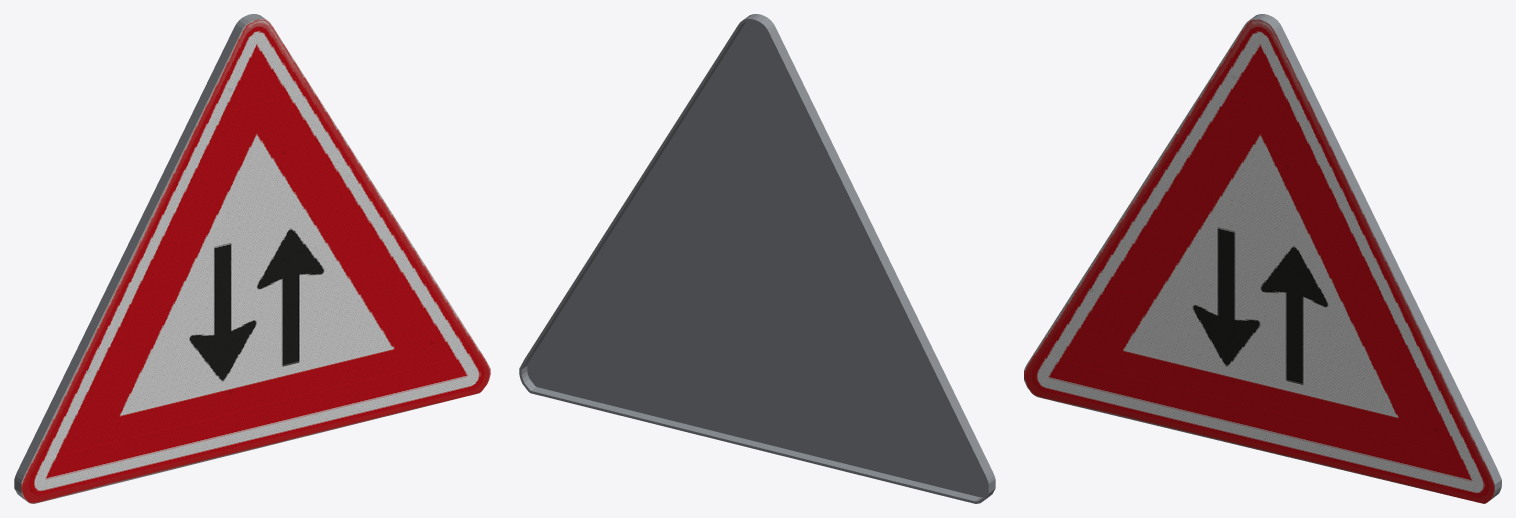
3 views of the same model, side by side, from view 1: azimuth 30°, elevation 25°; view 2: azimuth 150°, elevation 25°; view 3: azimuth 330°, elevation 25° (orthographic).
Visible parts, largest first — view 1: cat_03e46abdcace7b13; view 2: cat_03e46abdcace7b13; view 3: cat_03e46abdcace7b13.
Part boxes in pixels (bbox=[...]): cat_03e46abdcace7b13: bbox=[14, 14, 490, 503]; cat_03e46abdcace7b13: bbox=[519, 14, 995, 503]; cat_03e46abdcace7b13: bbox=[1024, 14, 1501, 503].
Size of the model in its own units: 0.6 by 0.015 by 0.5256.
Materials: 2 (1 with a texture image).
